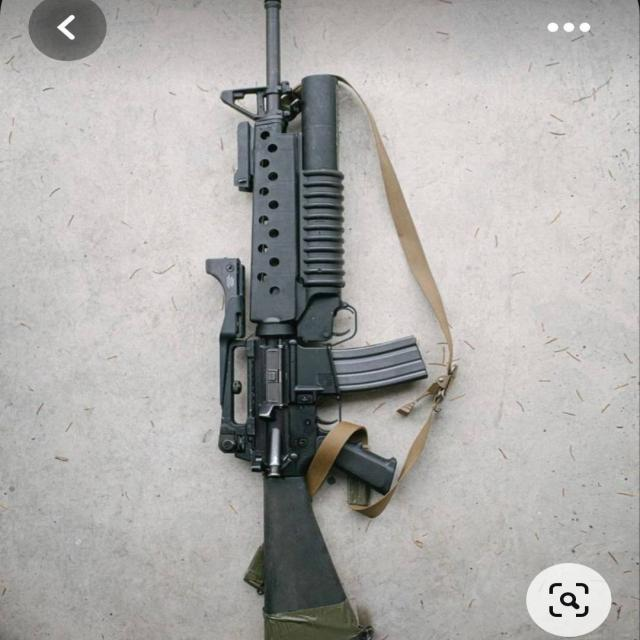m16: (162, 46, 456, 615)
